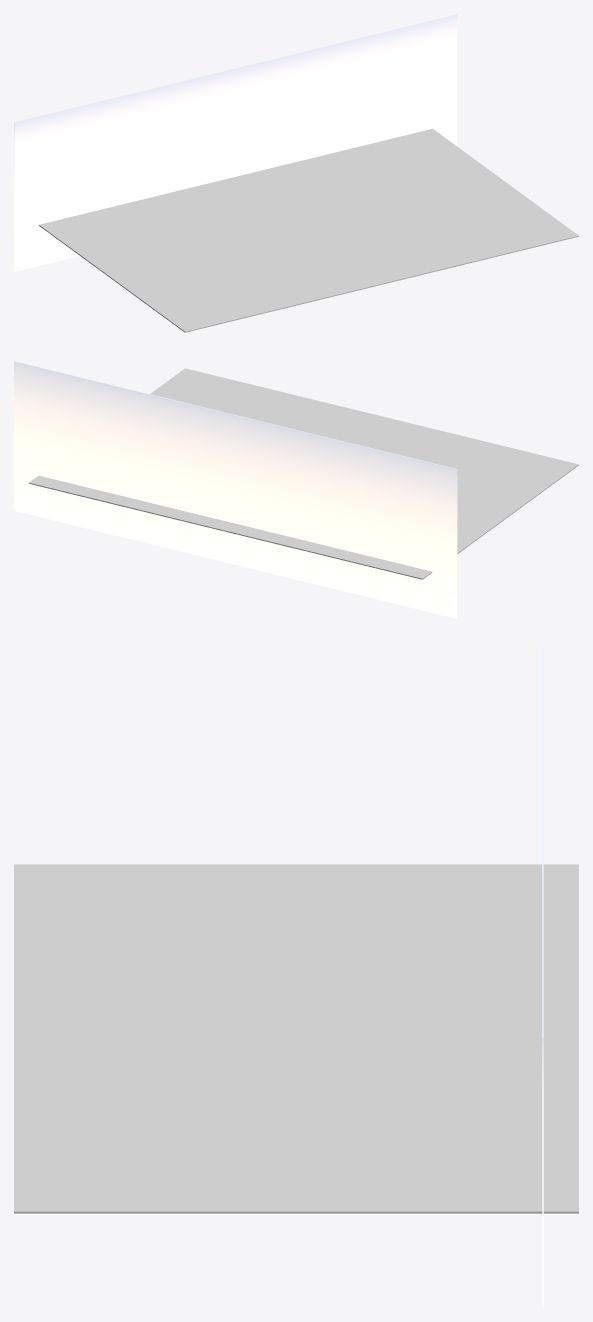
Rendered from sandbags.glb.
3 views of the same model, one above another, from view 1: azimuth 30°, elevation 25°; view 2: azimuth 150°, elevation 25°; view 3: azimuth 270°, elevation 25° (orthographic). The views are drawn at different scales.
Visible parts, largest first — view 1: Ground contact / transparent shadow receiver.012, Sky gradient / editable material.012; view 2: Sky gradient / editable material.012, Ground contact / transparent shadow receiver.012; view 3: Ground contact / transparent shadow receiver.012, Sky gradient / editable material.012.
Part boxes in pixels (x1,y1,x2,y2): Ground contact / transparent shadow receiver.012: (39, 128, 578, 332); Sky gradient / editable material.012: (14, 14, 457, 271); Sky gradient / editable material.012: (14, 361, 457, 618); Ground contact / transparent shadow receiver.012: (29, 368, 578, 579); Ground contact / transparent shadow receiver.012: (14, 864, 578, 1213); Sky gradient / editable material.012: (542, 647, 543, 1307).
Bounding box in the file's own units: 180 × 58 × 110.
